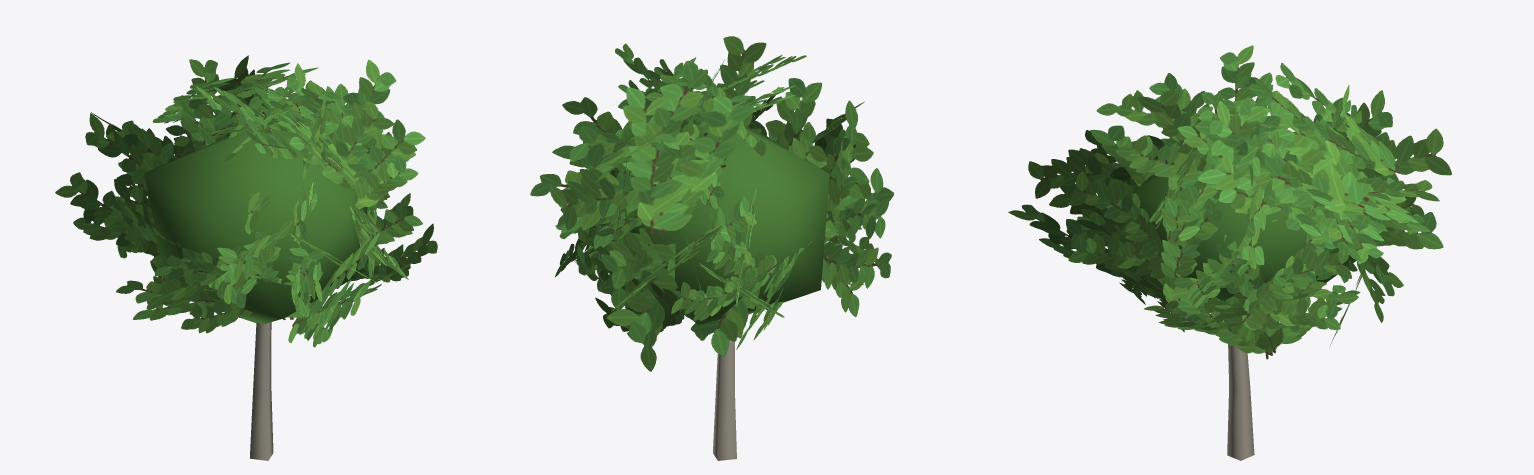
Rendered from CELTIS_2.glb.
3 renders of one model, left to right at view 1: azimuth 30°, elevation 25°; view 2: azimuth 150°, elevation 25°; view 3: azimuth 270°, elevation 25°, orthographic. The views are drawn at different scales.
Parts seen in each view (by area): view 1: Arv_CELTIS_lod2; view 2: Arv_CELTIS_lod2; view 3: Arv_CELTIS_lod2.
Boxes of the visible parts, box(x1,y1,x2,y2) form: Arv_CELTIS_lod2: box(55, 55, 437, 460); Arv_CELTIS_lod2: box(530, 36, 893, 460); Arv_CELTIS_lod2: box(1008, 45, 1451, 460).
Size of the model in its own units: 11.02 by 11.59 by 14.19.
Materials: 3 (1 with a texture image).
